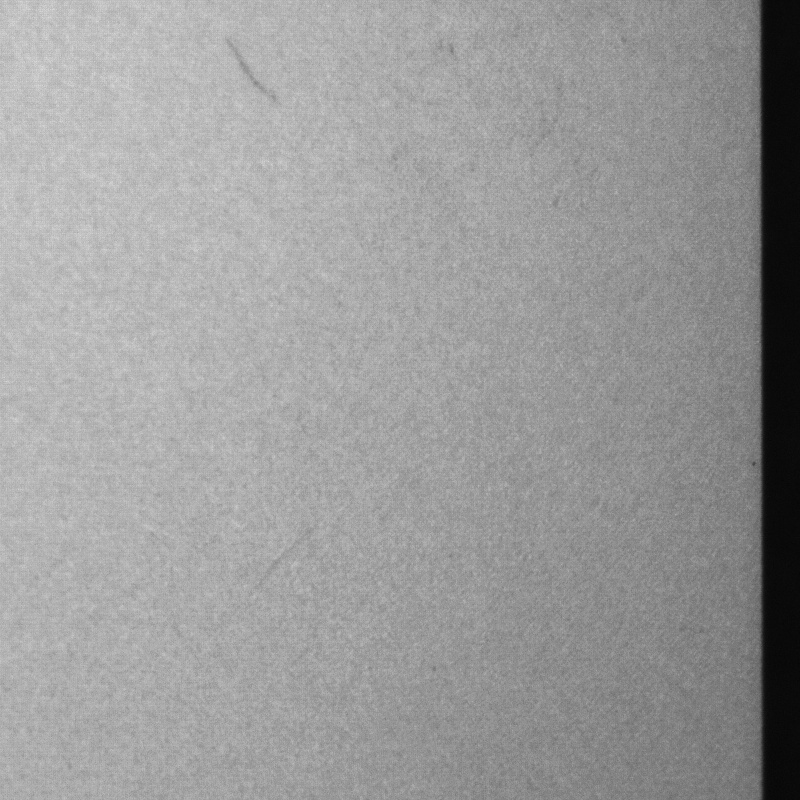defect: (225, 41, 282, 109), (257, 530, 307, 587)
